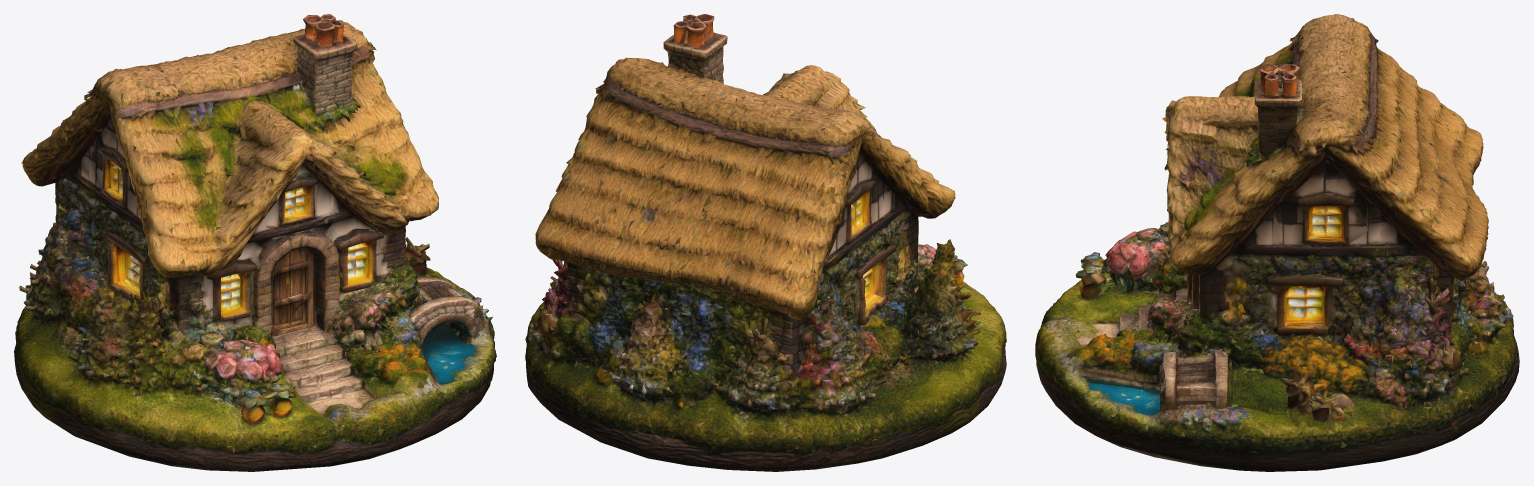
File: Enchanted_Thatch_Cott.glb
3 renders of one model, left to right at view 1: azimuth 30°, elevation 25°; view 2: azimuth 150°, elevation 25°; view 3: azimuth 270°, elevation 25°, orthographic.
Visible parts, largest first — view 1: Enchanted_Thatch_Cott; view 2: Enchanted_Thatch_Cott; view 3: Enchanted_Thatch_Cott.
Part boxes in pixels (box(x1,y1,x2,y2)): Enchanted_Thatch_Cott: box(14, 14, 496, 471); Enchanted_Thatch_Cott: box(525, 14, 1006, 471); Enchanted_Thatch_Cott: box(1035, 14, 1519, 471).
Size of the model in its own units: 1.89 by 1.46 by 1.9.
1 material, 1 textured.
